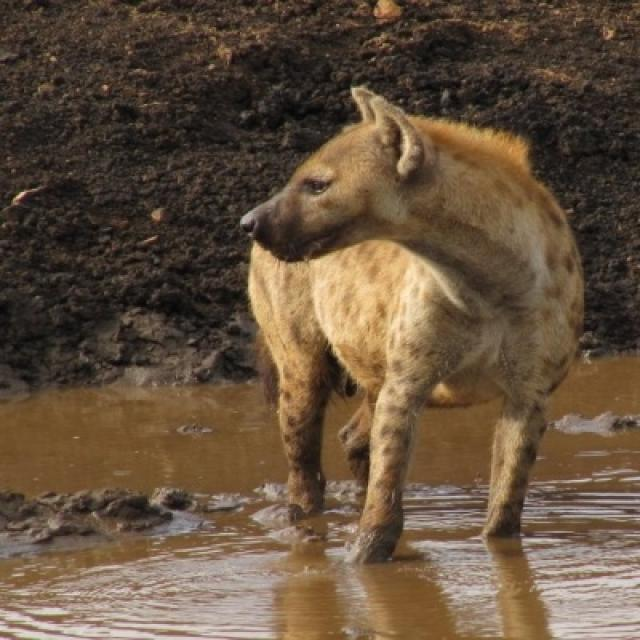hyena: (242, 86, 582, 562)
